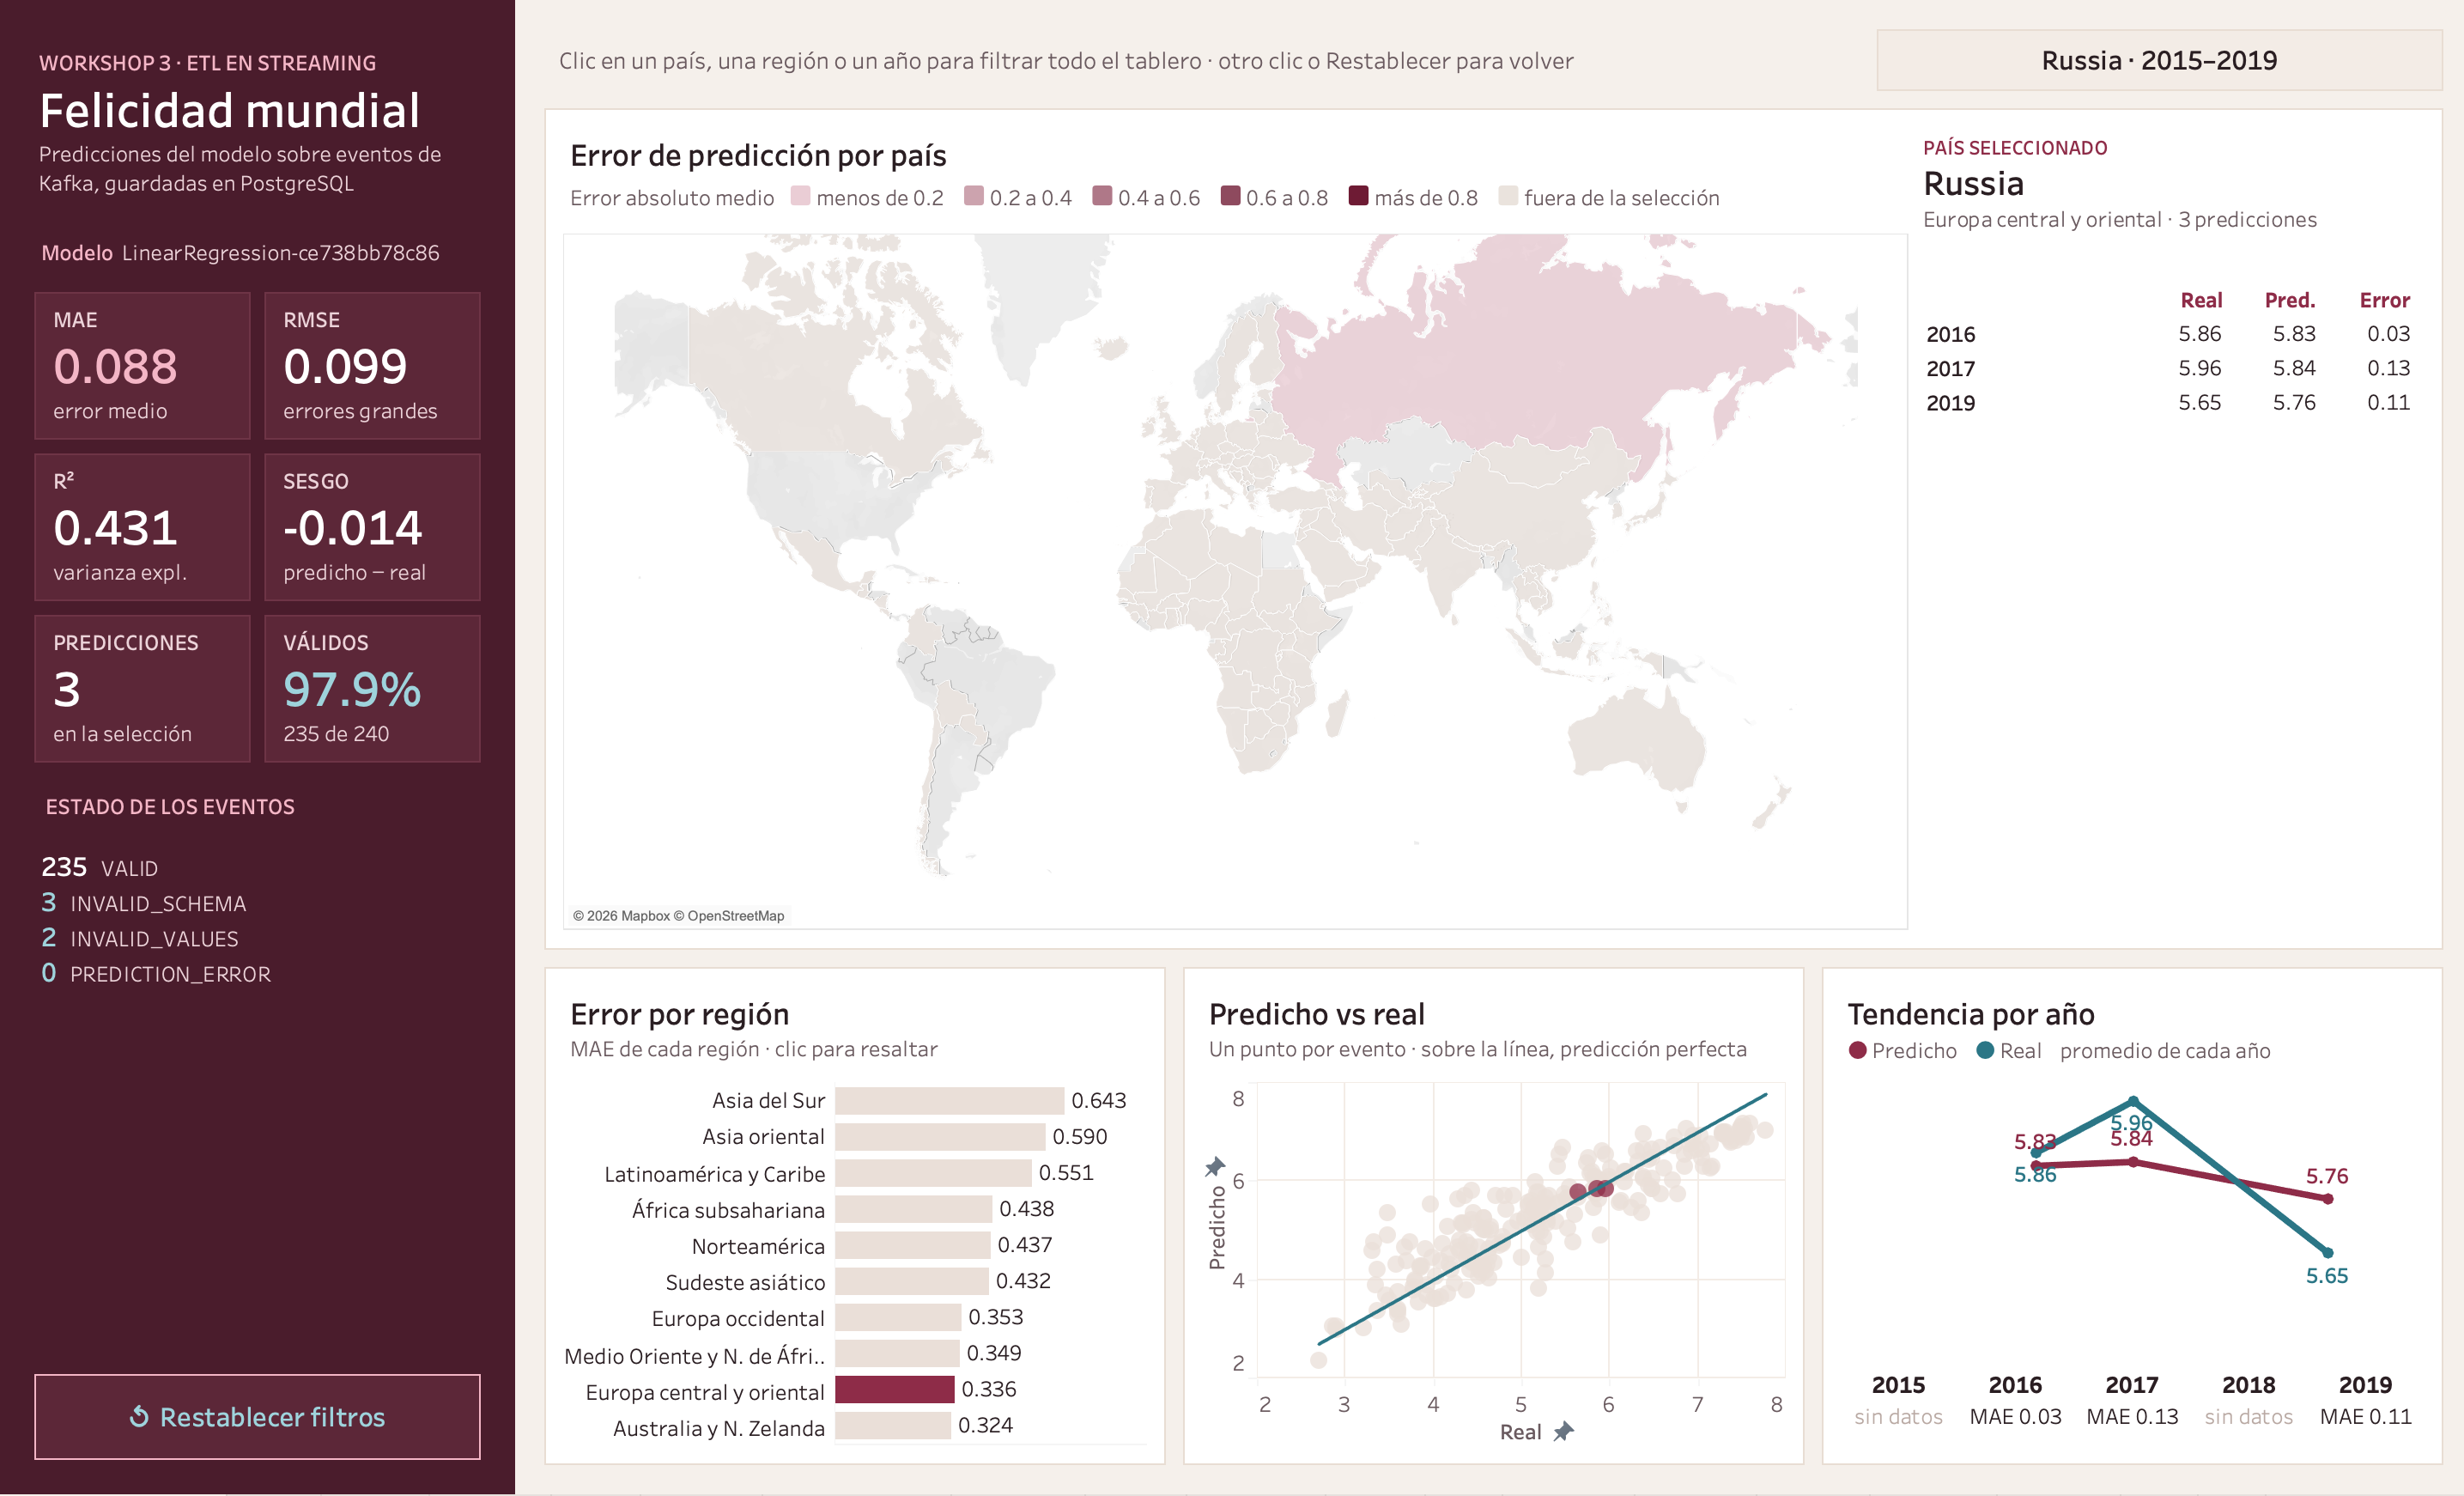

Layout of this report page (visuals, bound fields, positions):
{"tool":"tableau","page":{"name":"Felicidad mundial","canvas":[1000,1000],"units":"permille","ordinal":0},"visuals":[{"type":"text","box":[216.7,13.8,538.9,52.9]},{"type":"worksheet","title":"Alcance","mark":"Text","box":[755.6,13.8,236.1,52.9]},{"type":"text","box":[11.1,18.4,186.1,128.7]},{"type":"worksheet","title":"Mapa","mark":"Multipolygon","box":[227.8,85,544.5,537.9]},{"type":"worksheet","title":"Ficha titulo","mark":"Text","box":[775,89.7,202.8,98.9]},{"type":"worksheet","title":"Modelo","mark":"Text","box":[11.1,147.1,186.1,43.7]},{"type":"worksheet","title":"Ficha lista","mark":"Text","rows":["Calculation_5300000000000023"],"box":[775,188.5,202.8,429.9]},{"type":"worksheet","title":"KPI MAE","mark":"Text","box":[11.1,190.8,93.1,108]},{"type":"worksheet","title":"KPI RMSE","mark":"Text","box":[104.2,190.8,93,108]},{"type":"worksheet","title":"KPI R2","mark":"Text","box":[11.1,298.9,93.1,108]},{"type":"worksheet","title":"KPI Sesgo","mark":"Text","box":[104.2,298.9,93,108]},{"type":"worksheet","title":"KPI Predicciones","mark":"Text","box":[11.1,406.9,93.1,108]},{"type":"worksheet","title":"KPI Validos","mark":"Text","box":[104.2,406.9,93,108]},{"type":"text","box":[11.1,515,186.1,48.3]},{"type":"worksheet","title":"Estados","mark":"Text","box":[11.1,563.2,186.1,119.5]},{"type":"worksheet","title":"Regiones","mark":"Bar","rows":["Calculation_5300000000000001"],"cols":["Calculation_5300000000000035"],"box":[216.7,641.4,258.3,344.8]},{"type":"worksheet","title":"Dispersion","mark":"Automatic","rows":["predicted_score","Calculation_5300000000000046"],"cols":["actual_score"],"box":[475,641.4,258.3,344.8]},{"type":"worksheet","title":"Tendencia","mark":"Automatic","rows":["Calculation_5300000000000062","Calculation_5300000000000061"],"cols":["year"],"box":[744.4,659.8,236.1,255.2]},{"type":"blank","box":[11.1,682.8,186.1,232.2]},{"type":"worksheet","title":"Restablecer","mark":"Text","box":[11.1,914.9,186.1,66.7]},{"type":"worksheet","title":"Anios","mark":"Text","cols":["Calculation_5300000000000003"],"box":[744.4,915,236.1,52.9]}]}

Visuals, with their boxes on the dashboard's canvas, which has no fixed pixel size, in thousandths of its width and height (x1, y1, x2, y2). These are canvas units, not pixel positions in the 2464x1496 screenshot, which may show the page scaled, cropped or inside an application window:
text: [x1=217, y1=14, x2=756, y2=67]
"Alcance" worksheet (Text marks): [x1=756, y1=14, x2=992, y2=67]
text: [x1=11, y1=18, x2=197, y2=147]
"Mapa" worksheet (Multipolygon marks): [x1=228, y1=85, x2=772, y2=623]
"Ficha titulo" worksheet (Text marks): [x1=775, y1=90, x2=978, y2=189]
"Modelo" worksheet (Text marks): [x1=11, y1=147, x2=197, y2=191]
"Ficha lista" worksheet (Text marks): [x1=775, y1=188, x2=978, y2=618]
"KPI MAE" worksheet (Text marks): [x1=11, y1=191, x2=104, y2=299]
"KPI RMSE" worksheet (Text marks): [x1=104, y1=191, x2=197, y2=299]
"KPI R2" worksheet (Text marks): [x1=11, y1=299, x2=104, y2=407]
"KPI Sesgo" worksheet (Text marks): [x1=104, y1=299, x2=197, y2=407]
"KPI Predicciones" worksheet (Text marks): [x1=11, y1=407, x2=104, y2=515]
"KPI Validos" worksheet (Text marks): [x1=104, y1=407, x2=197, y2=515]
text: [x1=11, y1=515, x2=197, y2=563]
"Estados" worksheet (Text marks): [x1=11, y1=563, x2=197, y2=683]
"Regiones" worksheet (Bar marks): [x1=217, y1=641, x2=475, y2=986]
"Dispersion" worksheet: [x1=475, y1=641, x2=733, y2=986]
"Tendencia" worksheet: [x1=744, y1=660, x2=980, y2=915]
blank: [x1=11, y1=683, x2=197, y2=915]
"Restablecer" worksheet (Text marks): [x1=11, y1=915, x2=197, y2=982]
"Anios" worksheet (Text marks): [x1=744, y1=915, x2=980, y2=968]
